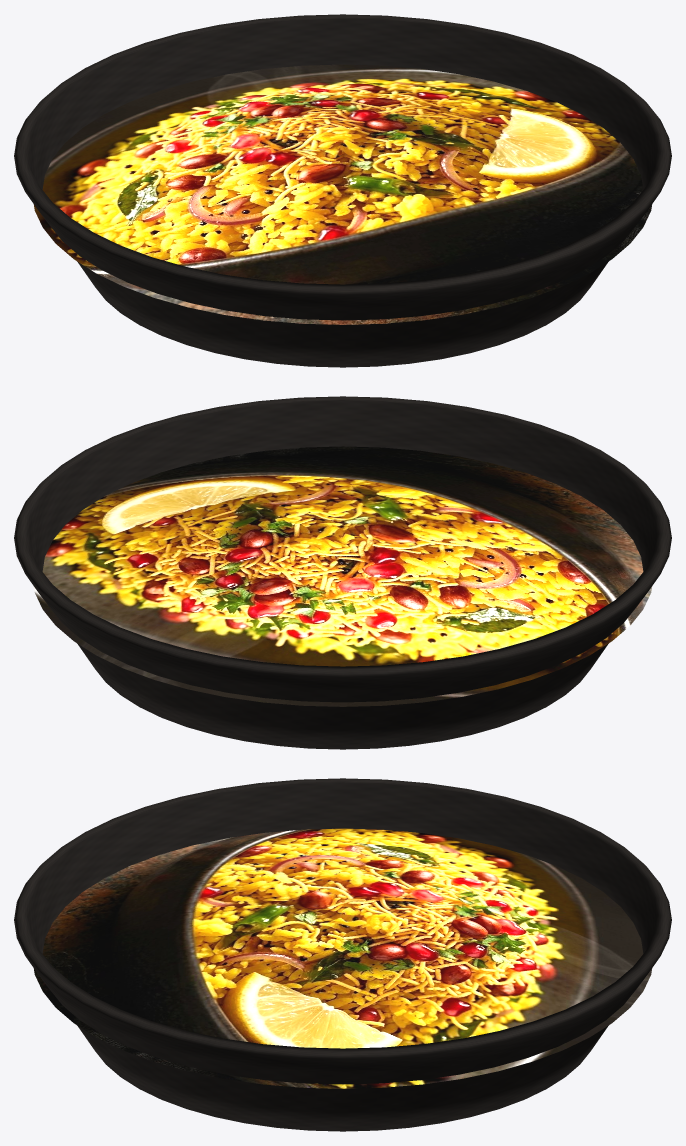
The model's file is poha.glb.
3 views of the same model, one above another, from view 1: azimuth 30°, elevation 25°; view 2: azimuth 150°, elevation 25°; view 3: azimuth 270°, elevation 25° (orthographic).
Visible parts, largest first — view 1: FoodMound, StonewareVessel; view 2: FoodMound, StonewareVessel; view 3: FoodMound, StonewareVessel.
Part boxes in pixels (<box>): FoodMound: <box>34,64,651,324</box>; StonewareVessel: <box>14,14,671,367</box>; FoodMound: <box>34,446,651,706</box>; StonewareVessel: <box>14,396,671,749</box>; FoodMound: <box>34,828,651,1088</box>; StonewareVessel: <box>14,778,671,1131</box>.
Size of the model in its own units: 0.2 by 0.0365 by 0.2.
2 materials, 2 textured.
